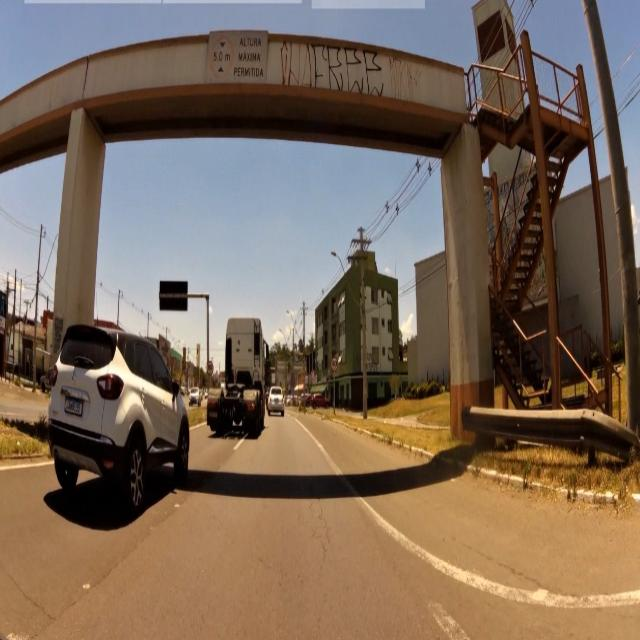R-15: (208, 34, 233, 82)
